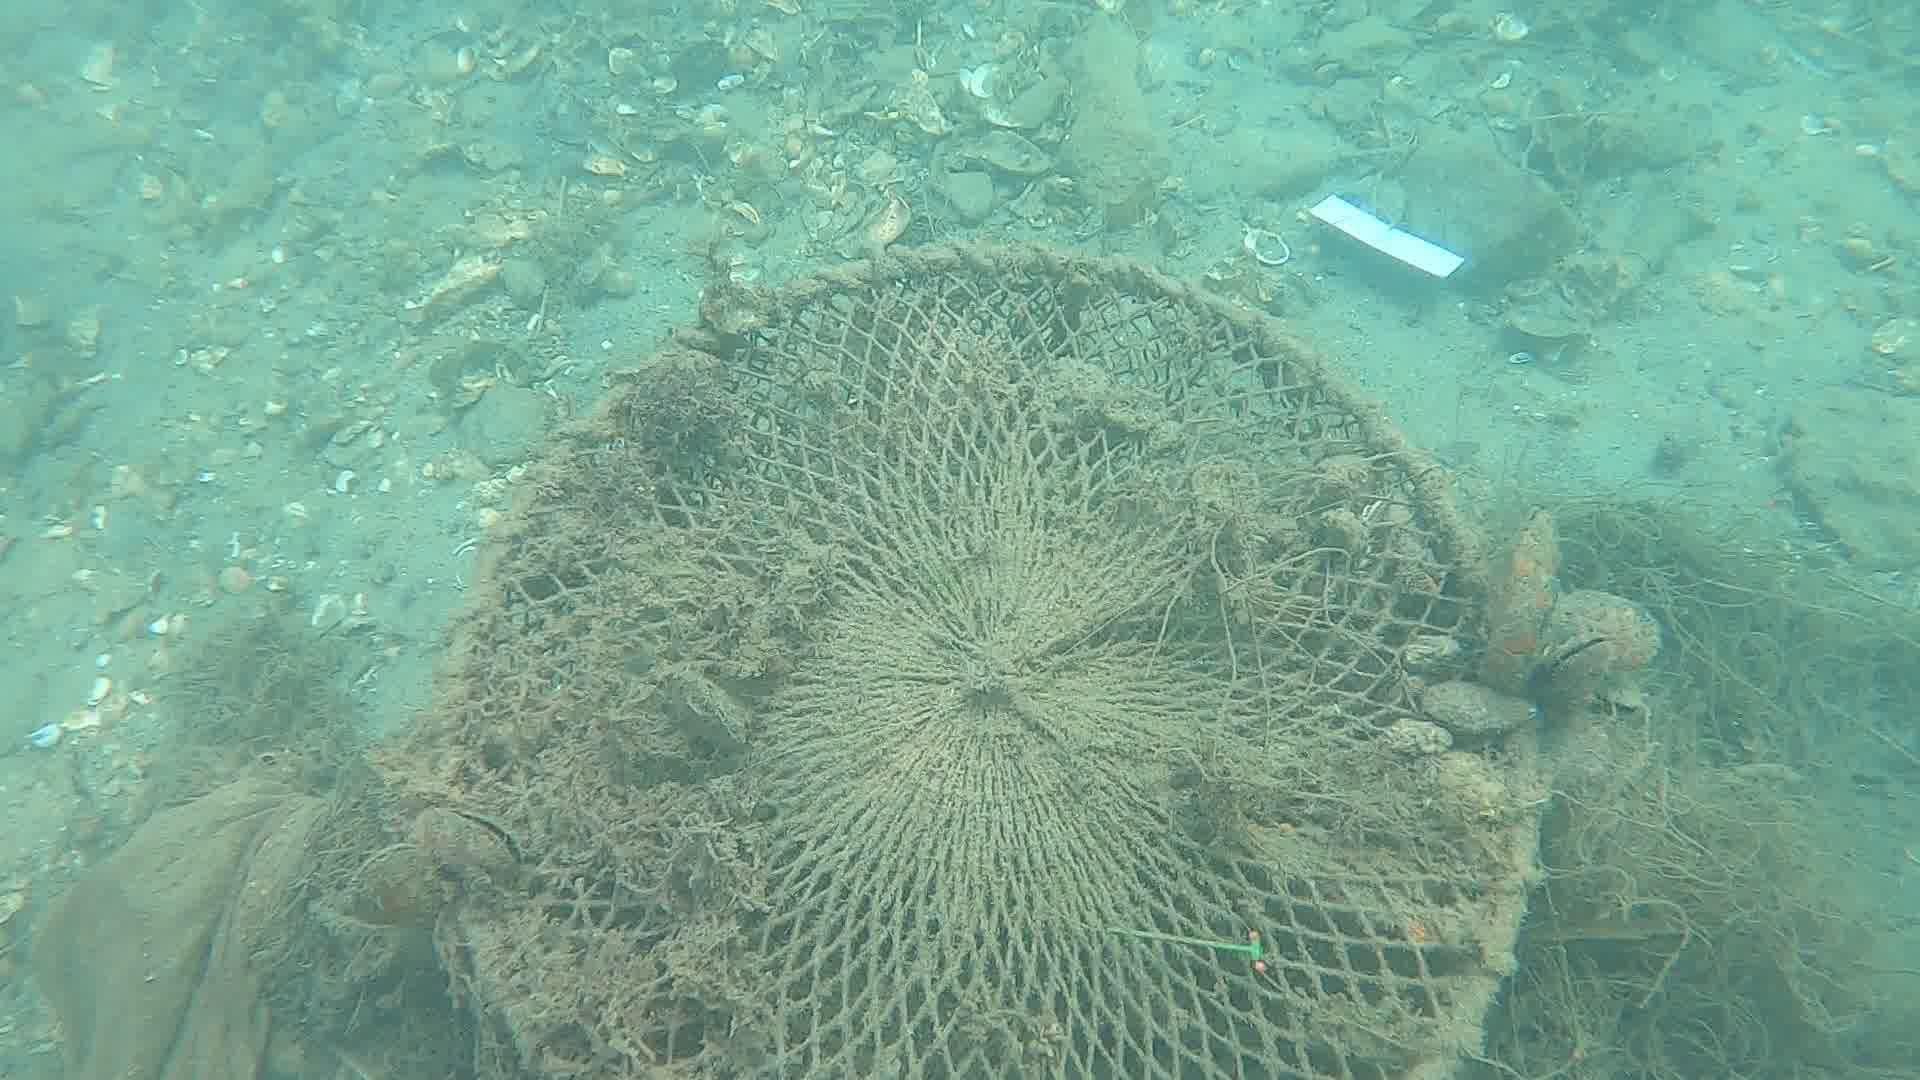circular fish trap: (430, 240, 1544, 1080)
